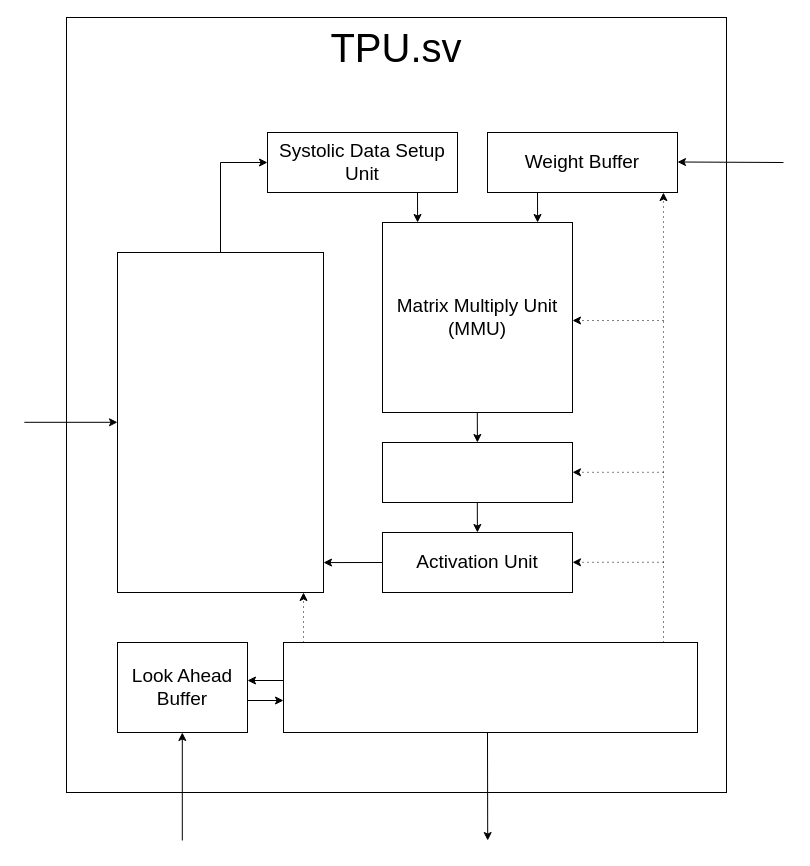
Image size: 810x866. Some labels were removed from this diagram. The shapes that lost their labels are listed below. From the top down, each one's box as (x1, y1, x2, y2) in pixels, then its label:
(116, 252, 324, 592): Unified Buffer
(382, 442, 572, 502): Register File
(282, 642, 698, 732): Control Logic
